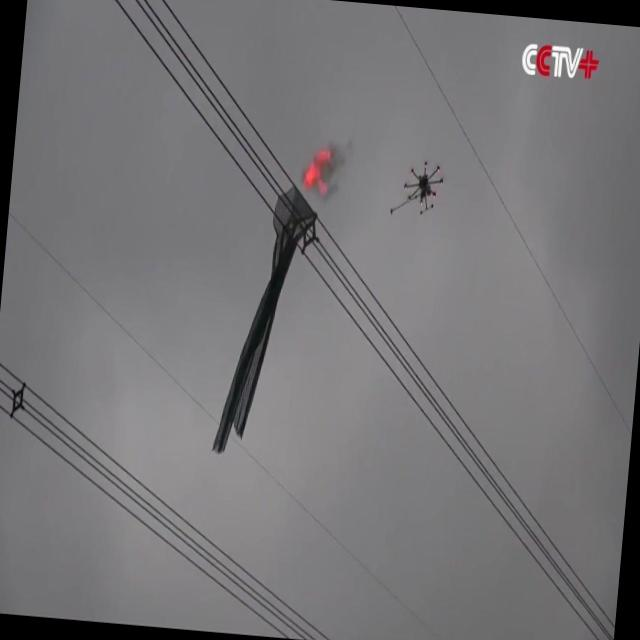drone: (401, 157, 446, 220)
